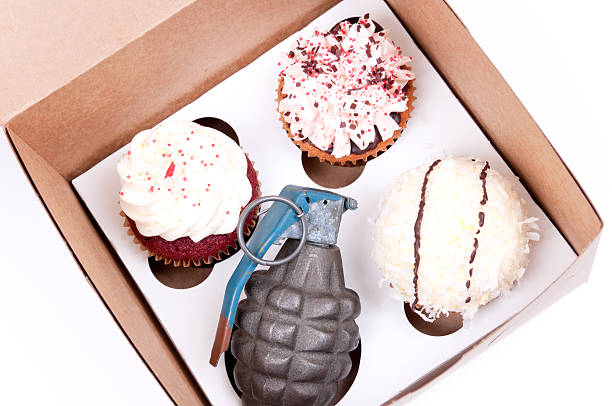e1: (214, 186, 361, 406)
